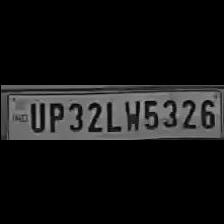2: (84, 97, 103, 132), (178, 96, 196, 128)
3: (64, 98, 82, 132), (159, 96, 177, 128)
5: (141, 96, 159, 130)
6: (196, 96, 216, 130)
L: (102, 96, 118, 132)
P: (44, 99, 64, 133)
U: (26, 98, 44, 132)
W: (121, 96, 139, 132)
